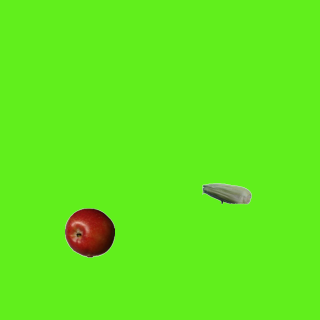Apple Braeburn: (64, 207, 114, 257)
Corn Husk: (201, 168, 251, 218)
